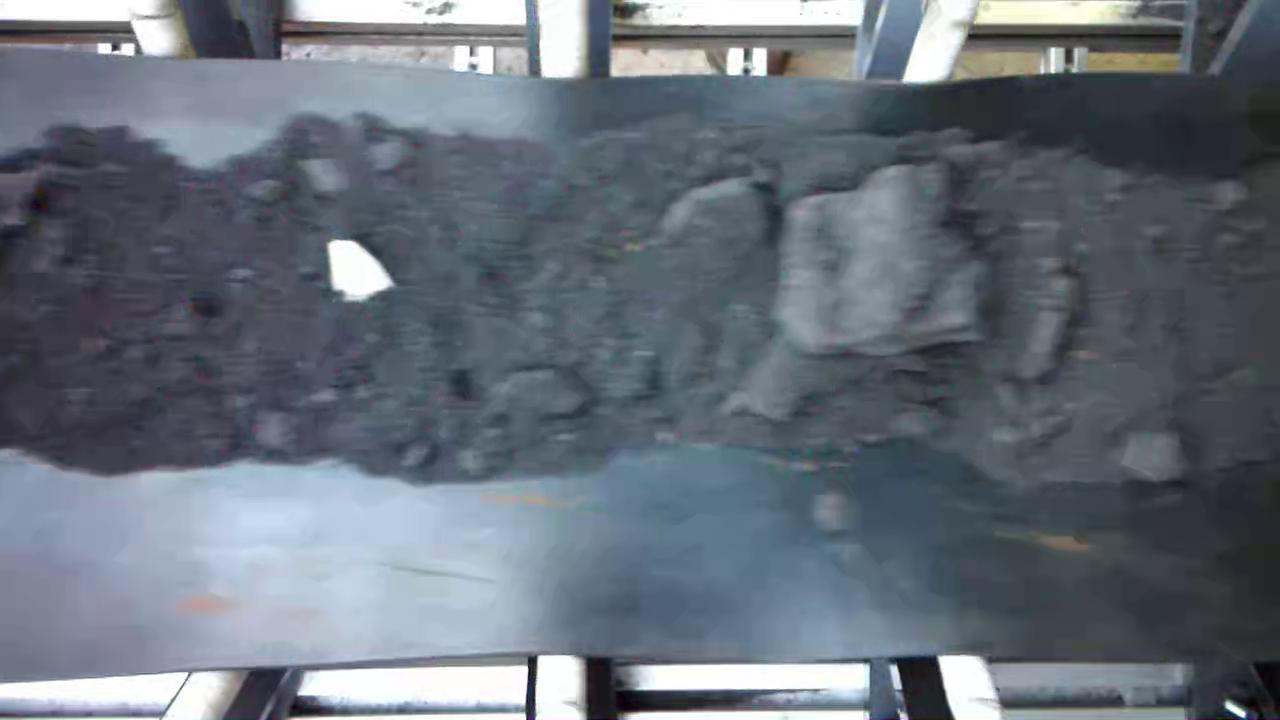conveyor: (3, 83, 1280, 643)
